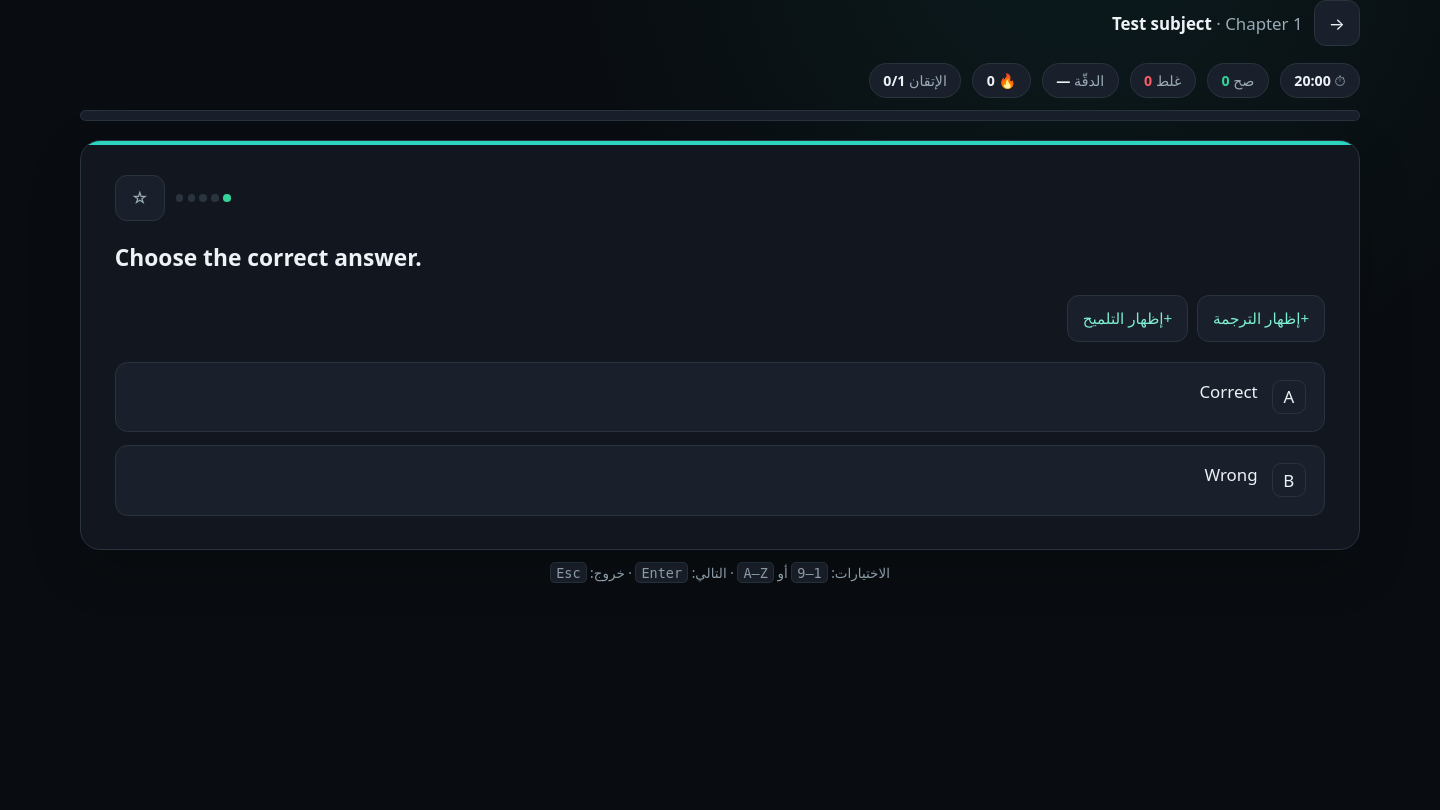
closes assistance when a failed card is requeued for a new attempt
The image size is (1440, 810).
Click the button "+إظهار الترجمة": (1261, 318) left=1197, top=295, right=1325, bottom=342
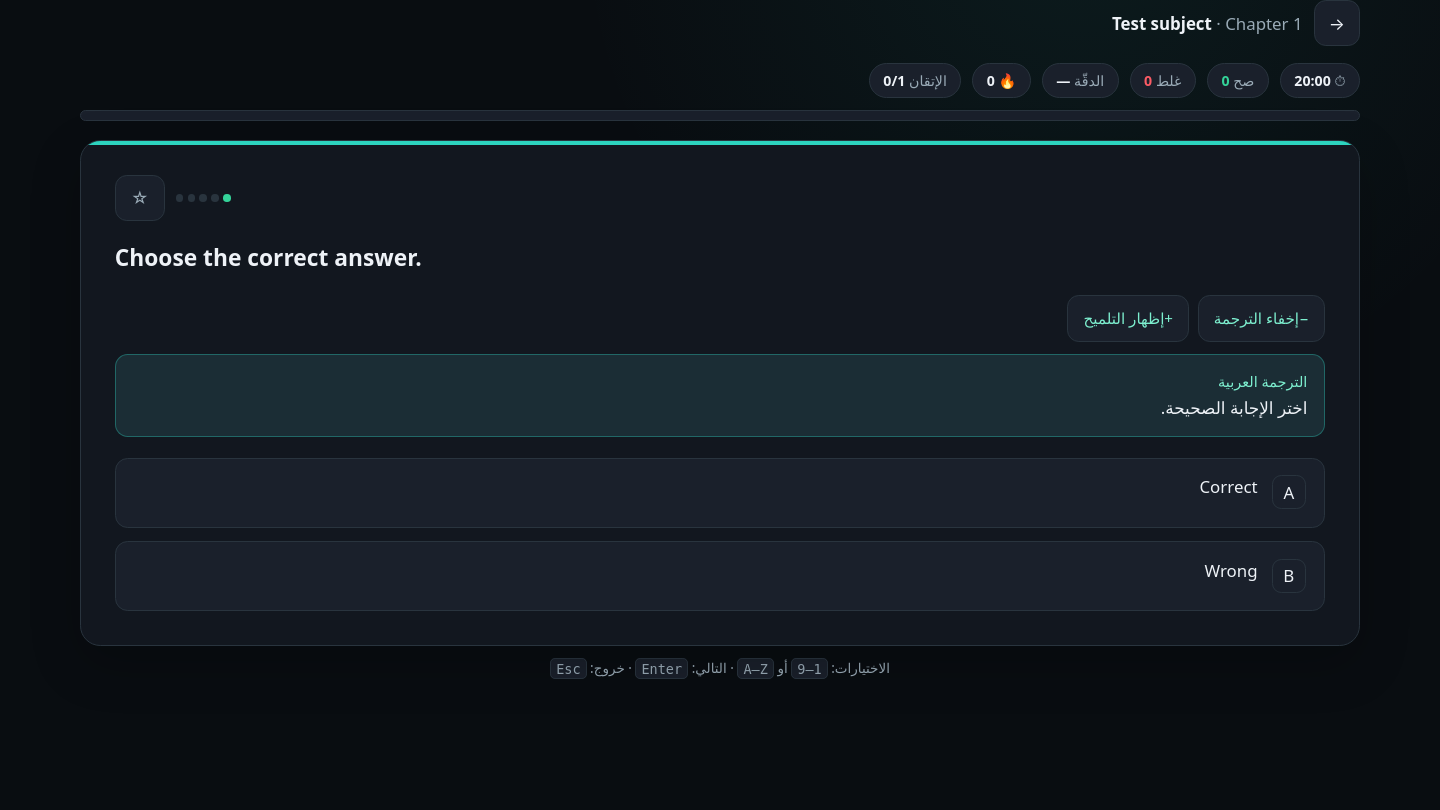
Expected: the text "اختر الإجابة الصحيحة." is shown, left=1161, top=396, right=1307, bottom=419
Click the button "B Wrong": (1289, 576) left=115, top=541, right=1325, bottom=611
(page scrolled)
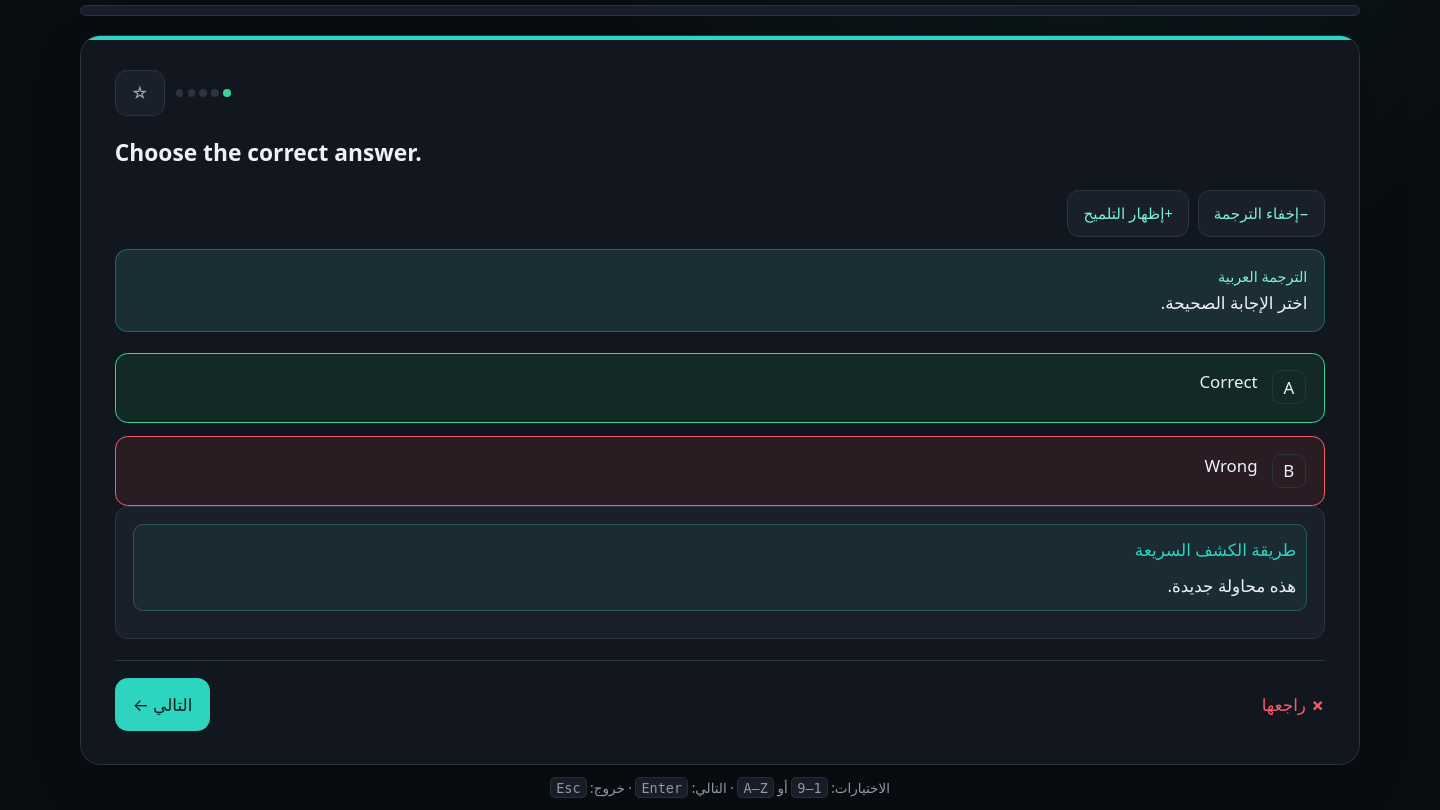
Click the button "التالي ←": (163, 704) left=115, top=678, right=210, bottom=730
(page scrolled)
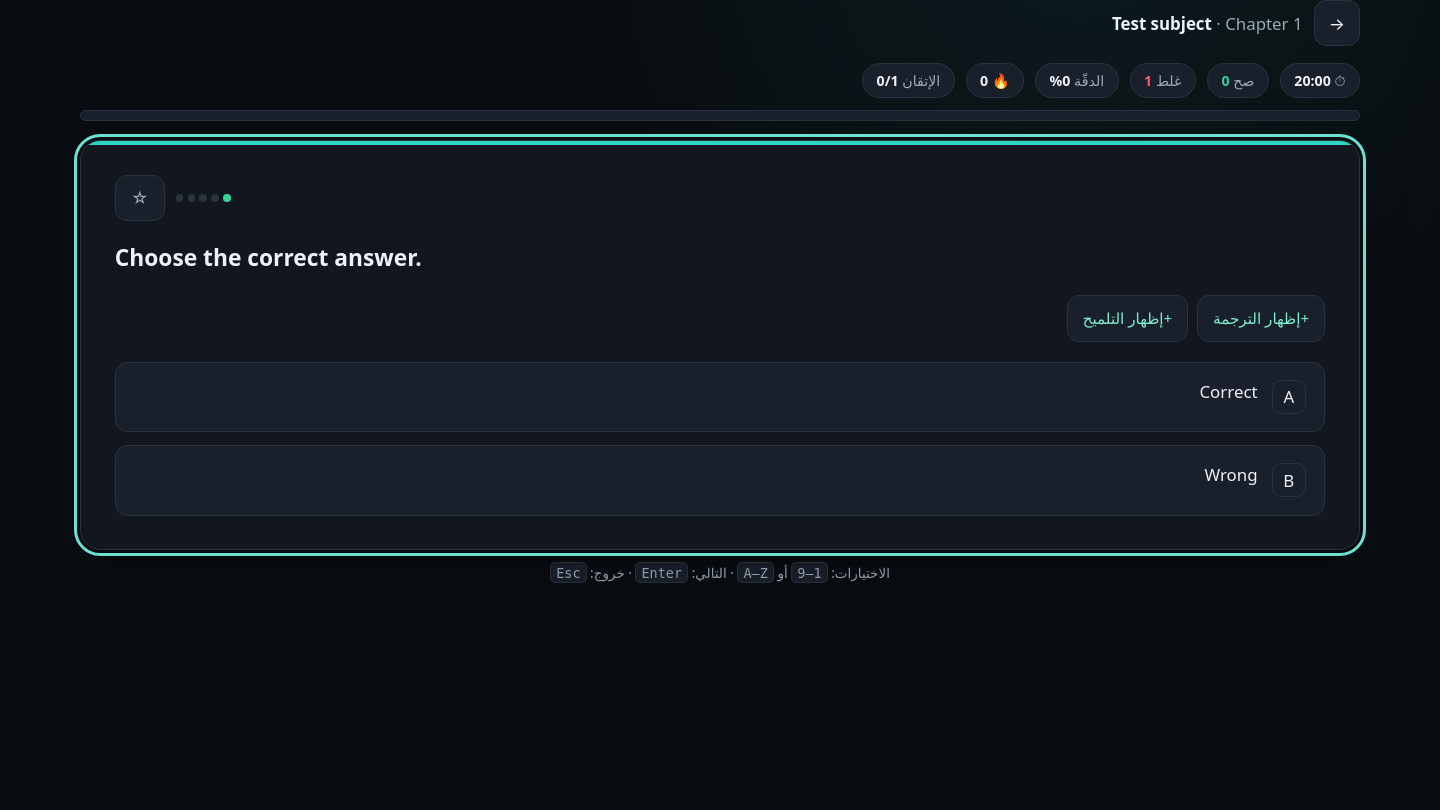
Expected: the text "اختر الإجابة الصحيحة." is gone
Expected: the button "+إظهار الترجمة" is collapsed, left=1197, top=295, right=1325, bottom=342
